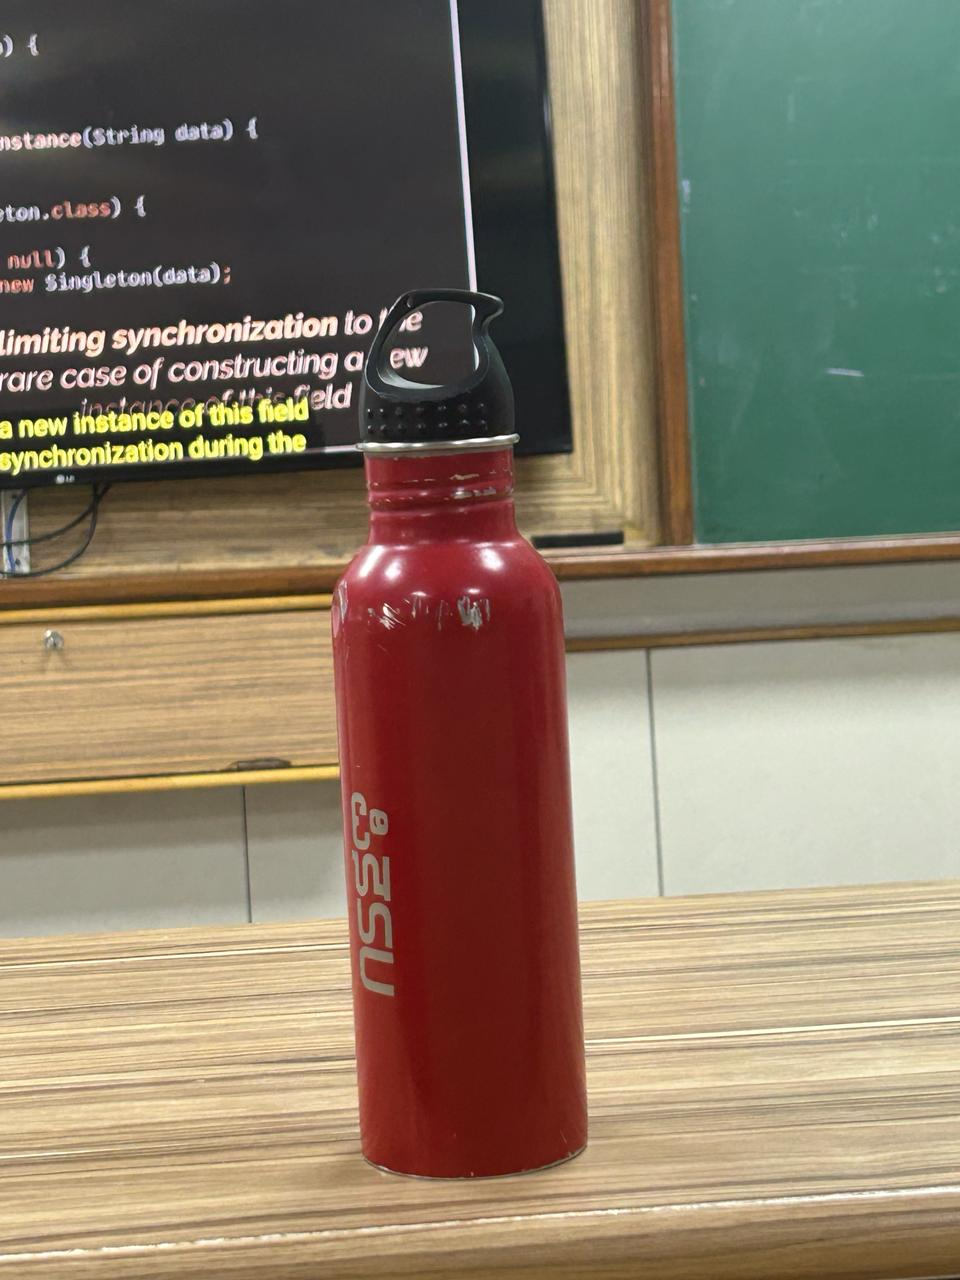bottle: (304, 282, 612, 1195)
